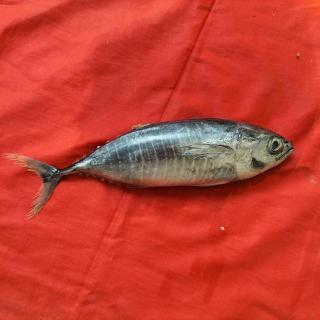Ikan: (1, 109, 306, 229)
